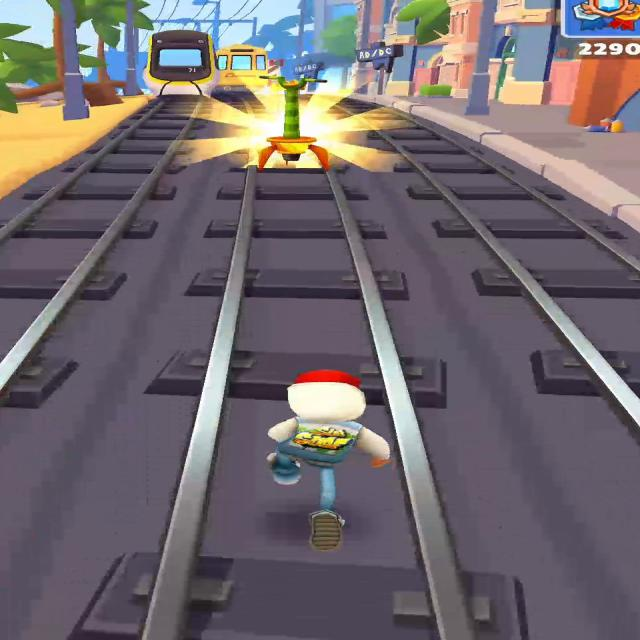train: (142, 28, 222, 101), (215, 45, 271, 93)
